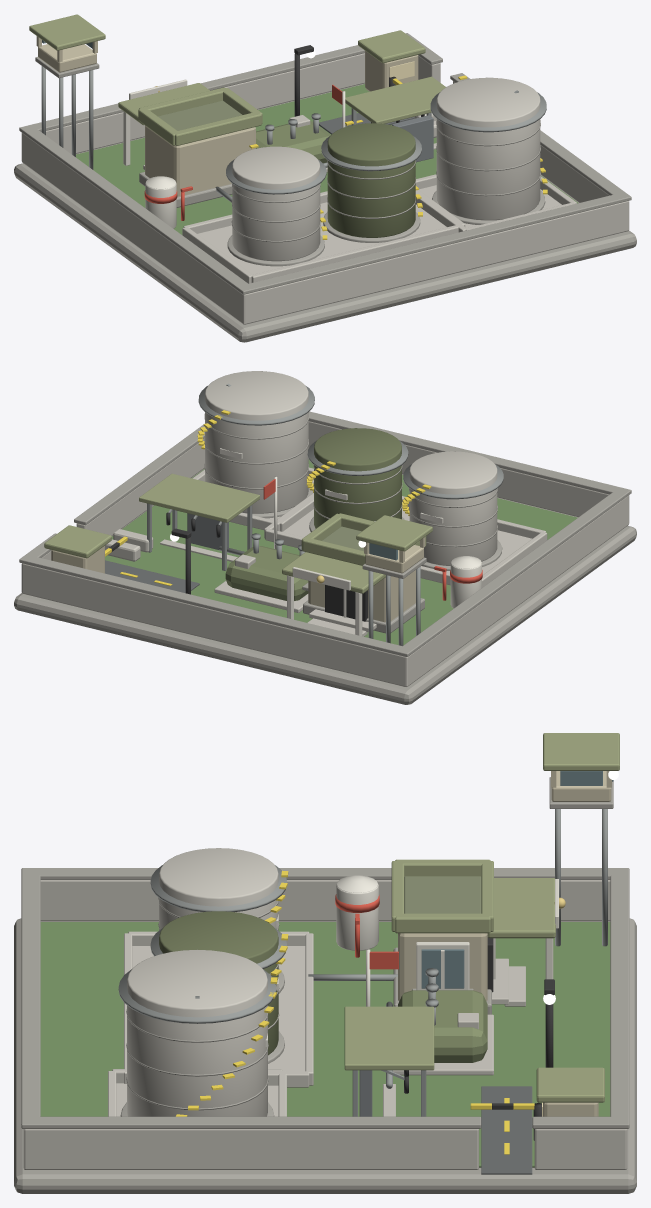
Rendered from fueldepot_9.glb.
The picture shows the model from 3 angles, top to bottom: view 1: azimuth 30°, elevation 25°; view 2: azimuth 150°, elevation 25°; view 3: azimuth 270°, elevation 25°; orthographic projection. The views are drawn at different scales.
Visible parts, largest first — view 1: Cylinder.016, Cube, Cube.104, Cylinder.002, Cylinder.009, Cube.106, Cube.001, Cube.102, Cube.072, Cube.105, Cube.107, Cube.095 (+29 smaller); view 2: Cube, Cube.102, Cylinder.016, Cube.001, Cylinder.002, Cylinder.009, Cube.106, Cube.103, Cube.104, Cube.095, Cube.107, Cube.122 (+29 smaller); view 3: Cube.001, Cylinder.016, Cube, Cube.110, Cube.106, Cylinder.002, Cube.095, Cube.111, Cylinder.009, Cube.103, Cube.105, Cube.002 (+29 smaller).
Part boxes in pixels (x1=…): Cylinder.016: x1=436, y1=77, x2=540, y2=220; Cube: x1=14, y1=83, x2=636, y2=342; Cube.104: x1=239, y1=201, x2=629, y2=324; Cylinder.002: x1=232, y1=146, x2=320, y2=261; Cylinder.009: x1=327, y1=123, x2=415, y2=237; Cube.106: x1=24, y1=135, x2=240, y2=321; Cube.001: x1=76, y1=84, x2=578, y2=234; Cube.102: x1=21, y1=53, x2=364, y2=164; Cube.072: x1=145, y1=125, x2=255, y2=196; Cube.105: x1=238, y1=192, x2=631, y2=294; Cube.107: x1=22, y1=127, x2=247, y2=291; Cube.095: x1=345, y1=76, x2=445, y2=123; Cube: x1=14, y1=468, x2=636, y2=704; Cube.102: x1=21, y1=563, x2=411, y2=687; Cylinder.016: x1=205, y1=371, x2=308, y2=513; Cube.001: x1=105, y1=459, x2=577, y2=645; Cylinder.002: x1=409, y1=451, x2=497, y2=565; Cylinder.009: x1=314, y1=428, x2=401, y2=528; Cube.106: x1=410, y1=497, x2=626, y2=684; Cube.103: x1=19, y1=554, x2=414, y2=656; Cube.104: x1=308, y1=421, x2=629, y2=526; Cube.095: x1=139, y1=473, x2=259, y2=522; Cube.107: x1=399, y1=489, x2=628, y2=652; Cube.122: x1=225, y1=546, x2=308, y2=600; Cube.001: x1=40, y1=922, x2=610, y2=1167; Cylinder.016: x1=127, y1=949, x2=267, y2=1116; Cube: x1=14, y1=918, x2=636, y2=1193; Cube.110: x1=33, y1=1129, x2=478, y2=1169; Cube.106: x1=40, y1=880, x2=610, y2=921; Cylinder.002: x1=159, y1=848, x2=278, y2=930; Cube.095: x1=344, y1=1006, x2=434, y2=1070; Cube.111: x1=30, y1=1116, x2=481, y2=1128; Cylinder.009: x1=159, y1=911, x2=278, y2=1055; Cube.103: x1=610, y1=868, x2=629, y2=1128; Cube.105: x1=21, y1=868, x2=40, y2=1128; Cube.002: x1=481, y1=1086, x2=532, y2=1174.
Size of the model in its own units: 2.92 by 1.08 by 2.92.
